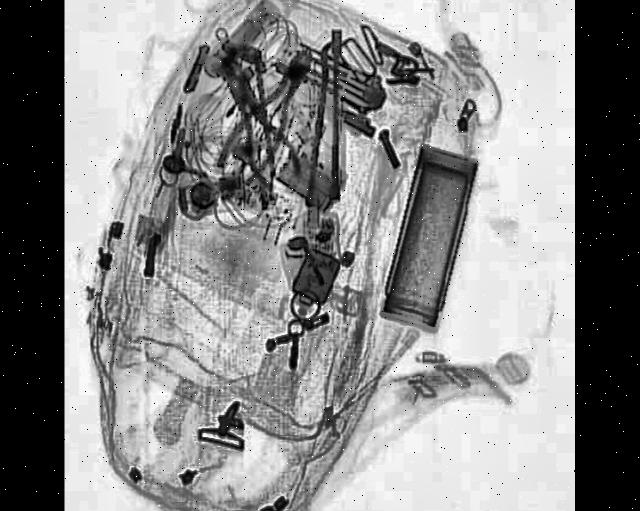Pliers: (213, 32, 328, 200), (208, 44, 306, 200)
